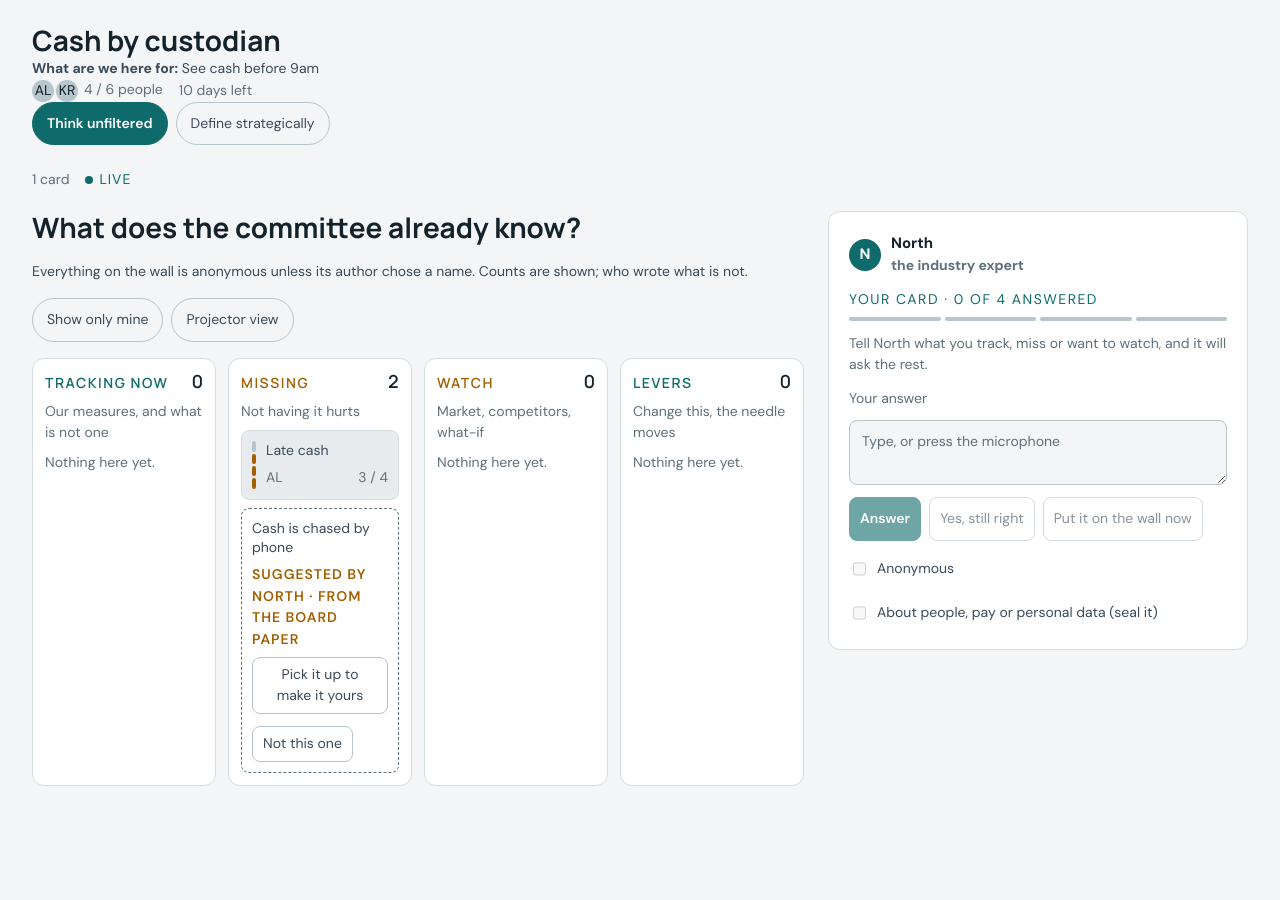
Test: the wall inside an intent › Not this one hides a suggestion and Undo brings it back; cards show initials
Expected: the text "Cash is chased by phone" is shown, [252,519,388,558]
Expected: the element with class "ds-wall-card__foot" shows "AL", [266,467,388,489]
Click the button "Not this one" at (302, 744), box [252,726,353,762]
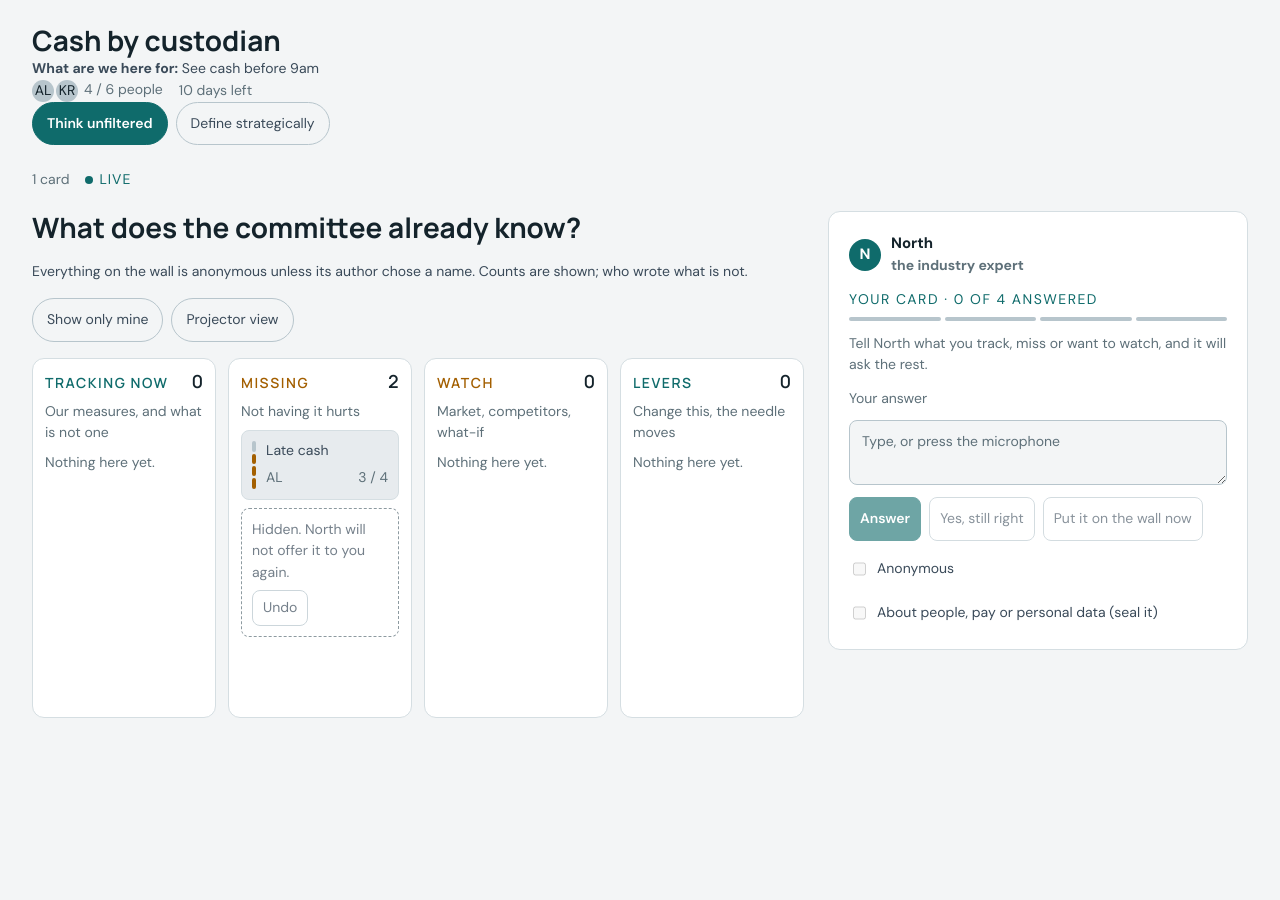
Click the button "Undo" at (280, 608), box [252,590,308,626]
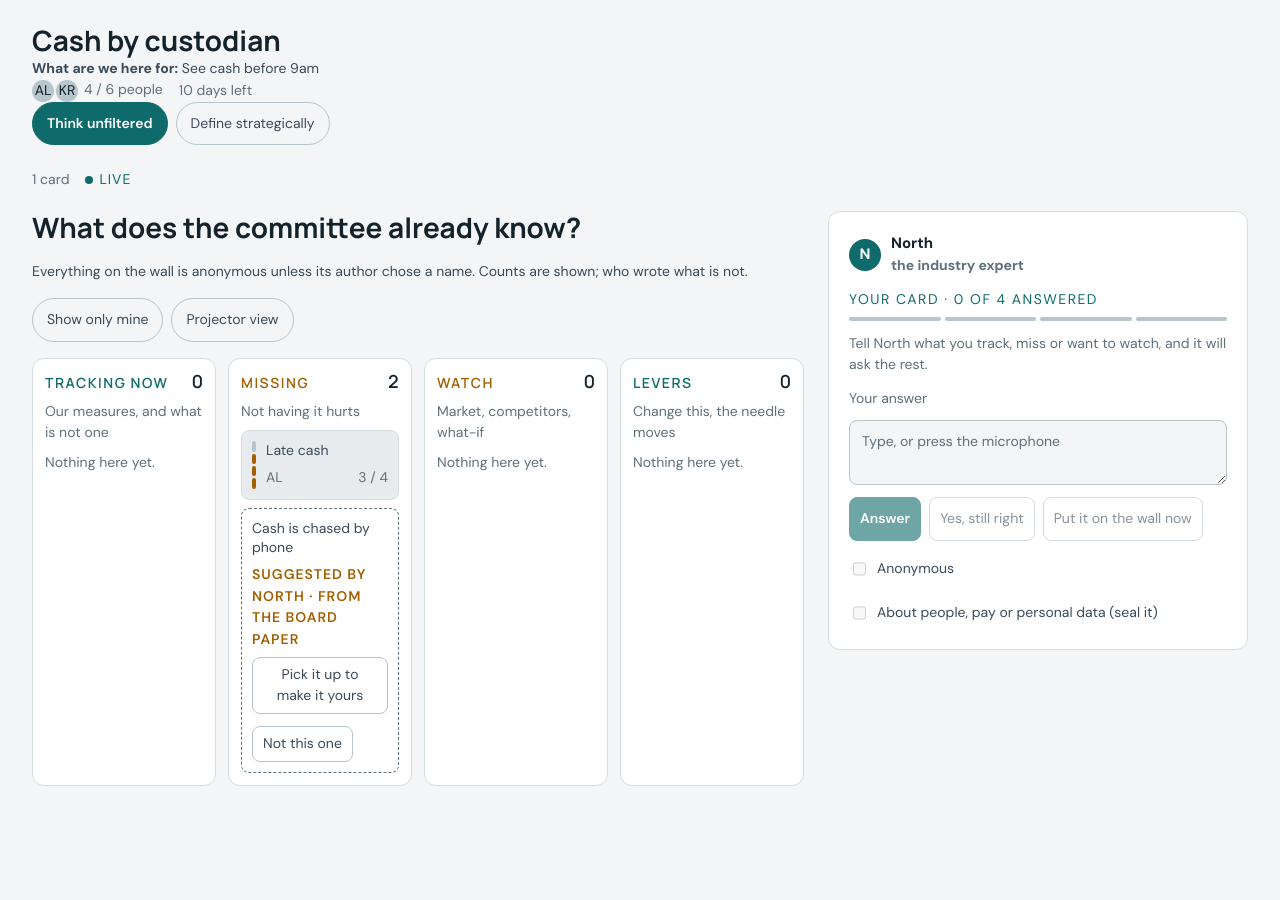
Expected: the text "Cash is chased by phone" is shown, [252,519,388,558]
